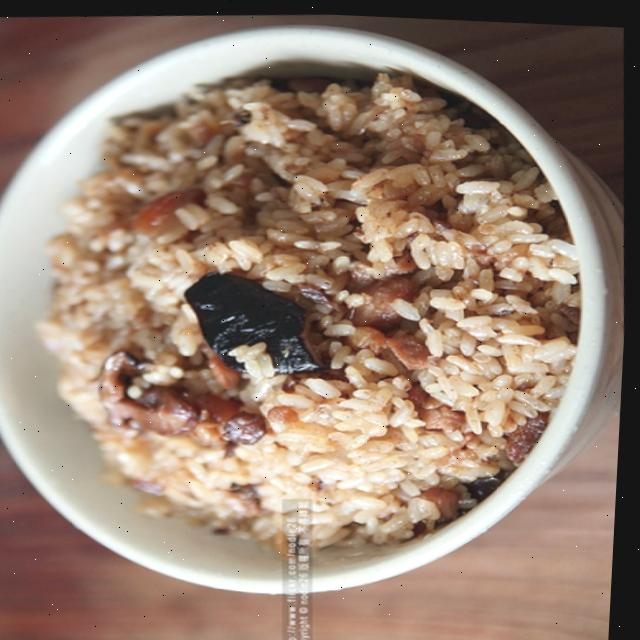米饭主食: (24, 82, 561, 551)
